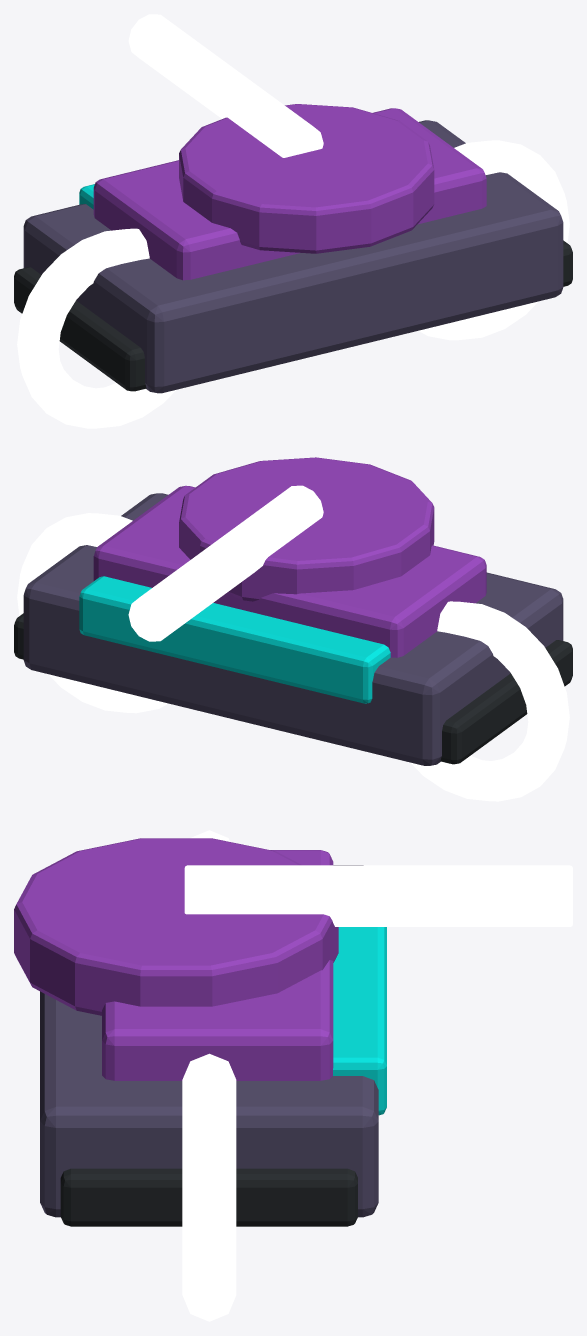
Rendered from SM_Chronolegion_CH_DeltaDelayArtillery.fbx.
3 renders of one model, top to bottom at view 1: azimuth 30°, elevation 25°; view 2: azimuth 150°, elevation 25°; view 3: azimuth 270°, elevation 25°, orthographic. The views are drawn at different scales.
Parts seen in each view (by area): view 1: SM_Chronolegion_CH_DeltaDelayArtillery, SM_Chronolegion_CH_DeltaDelayArtillery_Turret, SM_Chronolegion_CH_DeltaDelayArtillery_UpperHull, SM_Chronolegion_CH_DeltaDelayArtillery_HoverRing_-1, SM_Chronolegion_CH_DeltaDelayArtillery_ArtilleryBarrel, SM_Chronolegion_CH_DeltaDelayArtillery_HoverRing_+1, SM_Chronolegion_CH_DeltaDelayArtillery_HoverPod_-1; view 2: SM_Chronolegion_CH_DeltaDelayArtillery, SM_Chronolegion_CH_DeltaDelayArtillery_Turret, SM_Chronolegion_CH_DeltaDelayArtillery_UpperHull, SM_Chronolegion_CH_DeltaDelayArtillery_Glacis, SM_Chronolegion_CH_DeltaDelayArtillery_HoverRing_-1, SM_Chronolegion_CH_DeltaDelayArtillery_ArtilleryBarrel, SM_Chronolegion_CH_DeltaDelayArtillery_HoverRing_+1, SM_Chronolegion_CH_DeltaDelayArtillery_HoverPod_-1; view 3: SM_Chronolegion_CH_DeltaDelayArtillery_Turret, SM_Chronolegion_CH_DeltaDelayArtillery, SM_Chronolegion_CH_DeltaDelayArtillery_ArtilleryBarrel, SM_Chronolegion_CH_DeltaDelayArtillery_UpperHull, SM_Chronolegion_CH_DeltaDelayArtillery_HoverPod_+1, SM_Chronolegion_CH_DeltaDelayArtillery_HoverRing_+1, SM_Chronolegion_CH_DeltaDelayArtillery_Glacis.
Part boxes in pixels (bbox=[...]): SM_Chronolegion_CH_DeltaDelayArtillery: bbox=[23, 120, 563, 393]; SM_Chronolegion_CH_DeltaDelayArtillery_Turret: bbox=[179, 104, 434, 253]; SM_Chronolegion_CH_DeltaDelayArtillery_UpperHull: bbox=[93, 108, 486, 280]; SM_Chronolegion_CH_DeltaDelayArtillery_HoverRing_-1: bbox=[17, 228, 175, 428]; SM_Chronolegion_CH_DeltaDelayArtillery_ArtilleryBarrel: bbox=[128, 14, 323, 157]; SM_Chronolegion_CH_DeltaDelayArtillery_HoverRing_+1: bbox=[418, 140, 569, 340]; SM_Chronolegion_CH_DeltaDelayArtillery_HoverPod_-1: bbox=[14, 267, 146, 391]; SM_Chronolegion_CH_DeltaDelayArtillery: bbox=[23, 493, 563, 765]; SM_Chronolegion_CH_DeltaDelayArtillery_Turret: bbox=[179, 457, 434, 601]; SM_Chronolegion_CH_DeltaDelayArtillery_UpperHull: bbox=[93, 485, 486, 657]; SM_Chronolegion_CH_DeltaDelayArtillery_Glacis: bbox=[79, 576, 390, 703]; SM_Chronolegion_CH_DeltaDelayArtillery_HoverRing_-1: bbox=[411, 601, 569, 801]; SM_Chronolegion_CH_DeltaDelayArtillery_ArtilleryBarrel: bbox=[128, 485, 323, 641]; SM_Chronolegion_CH_DeltaDelayArtillery_HoverRing_+1: bbox=[17, 513, 168, 713]; SM_Chronolegion_CH_DeltaDelayArtillery_HoverPod_-1: bbox=[440, 640, 572, 764]; SM_Chronolegion_CH_DeltaDelayArtillery_Turret: bbox=[14, 838, 338, 1015]; SM_Chronolegion_CH_DeltaDelayArtillery: bbox=[40, 865, 378, 1217]; SM_Chronolegion_CH_DeltaDelayArtillery_ArtilleryBarrel: bbox=[184, 865, 572, 926]; SM_Chronolegion_CH_DeltaDelayArtillery_UpperHull: bbox=[102, 850, 333, 1080]; SM_Chronolegion_CH_DeltaDelayArtillery_HoverPod_+1: bbox=[60, 1168, 357, 1226]; SM_Chronolegion_CH_DeltaDelayArtillery_HoverRing_+1: bbox=[182, 1053, 236, 1321]; SM_Chronolegion_CH_DeltaDelayArtillery_Glacis: bbox=[333, 927, 386, 1115].
Size of what is drawn, in the model's own units: 597 by 419 by 274.
